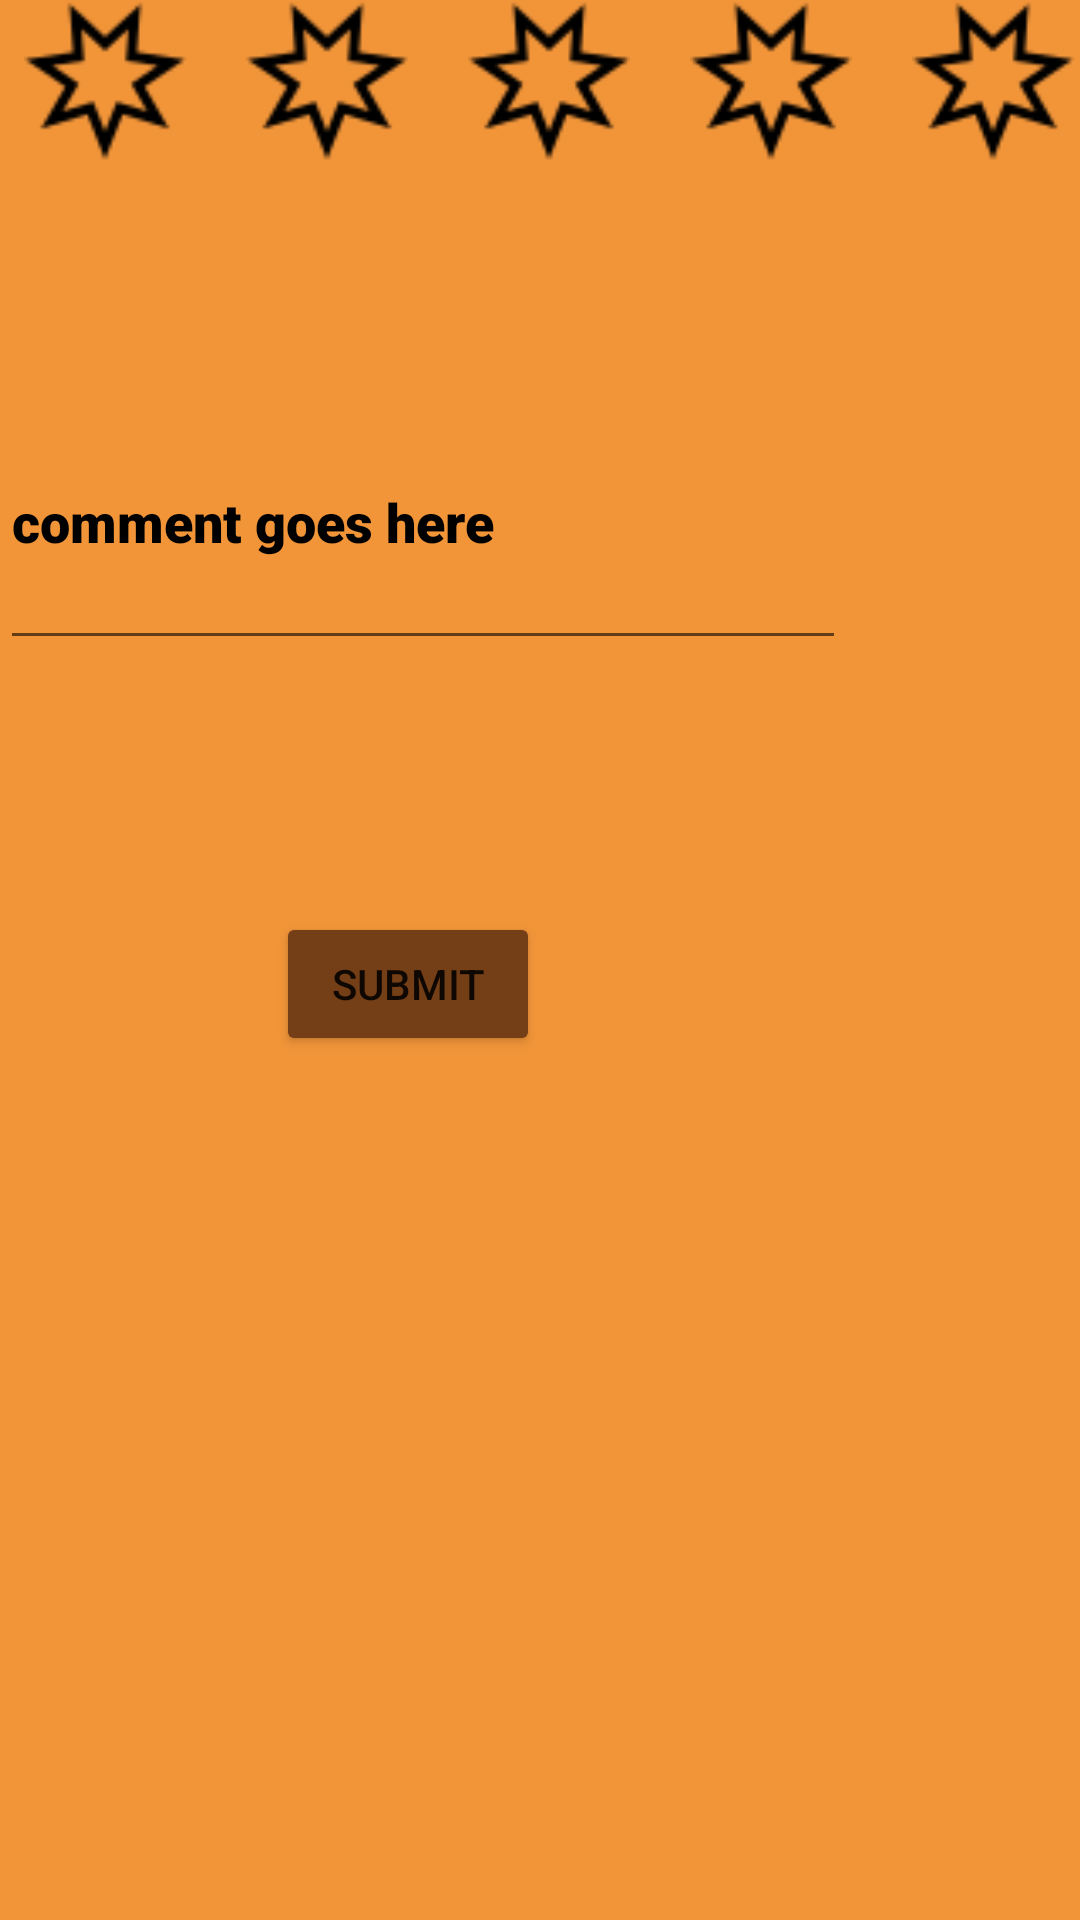

Where to tap for icons on this 1080px×1920px app screen, as (x,y):
star: (105,81), (327,81), (549,81), (771,81), (993,81)
